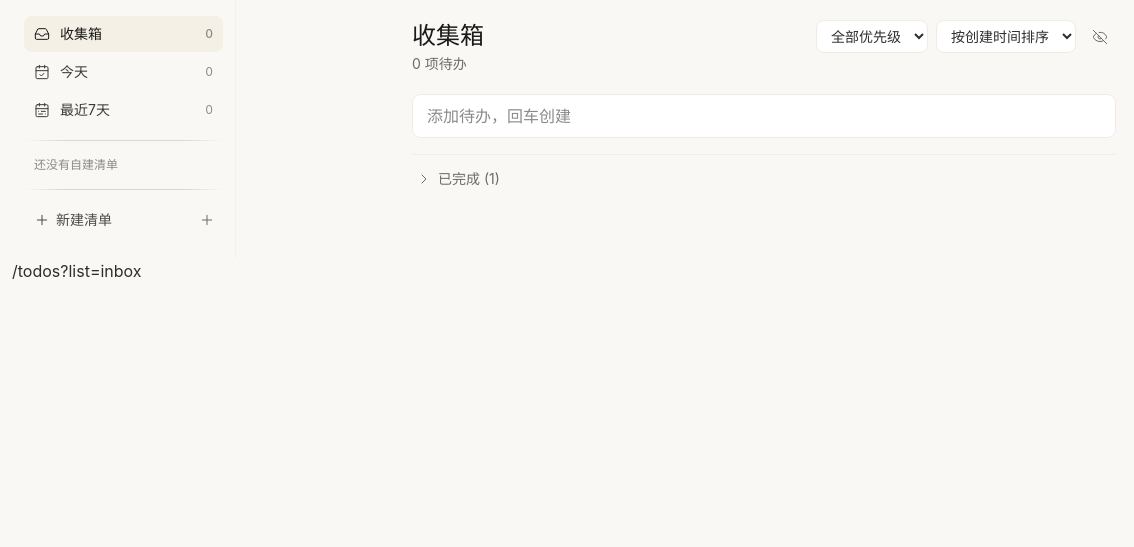
Todos 页 · 三栏重构（B2-T1） › 任务交互 › 进行中内容全被隐藏时空态提示从右上角开关恢复
The width and height of the screenshot is (1134, 547).
What coordinates should you click on to do the following:
click the button named "隐藏已完成分组"
I would click on:
 (1100, 36)
Its box is [1084,20,1116,52].
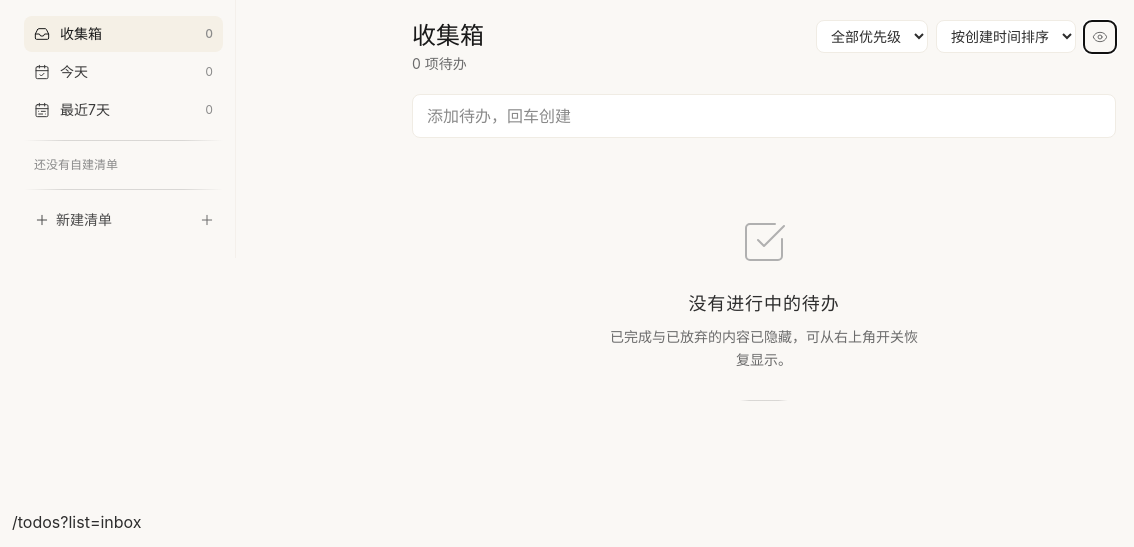
Check: the heading "没有进行中的待办" is shown, box [688,290,840,318]
Check: the text "已完成与已放弃的内容已隐藏，可从右上角开关恢复显示。" is shown, box [604,326,924,372]
